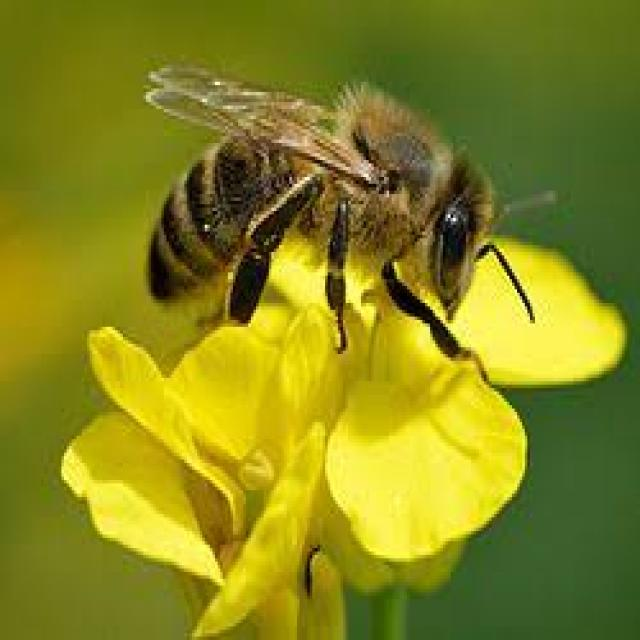Bees: (146, 59, 559, 388)
